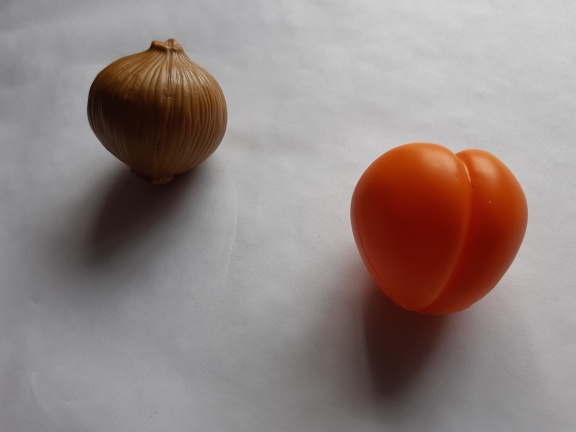apricot: (340, 138, 537, 322)
onion: (75, 33, 237, 192)
